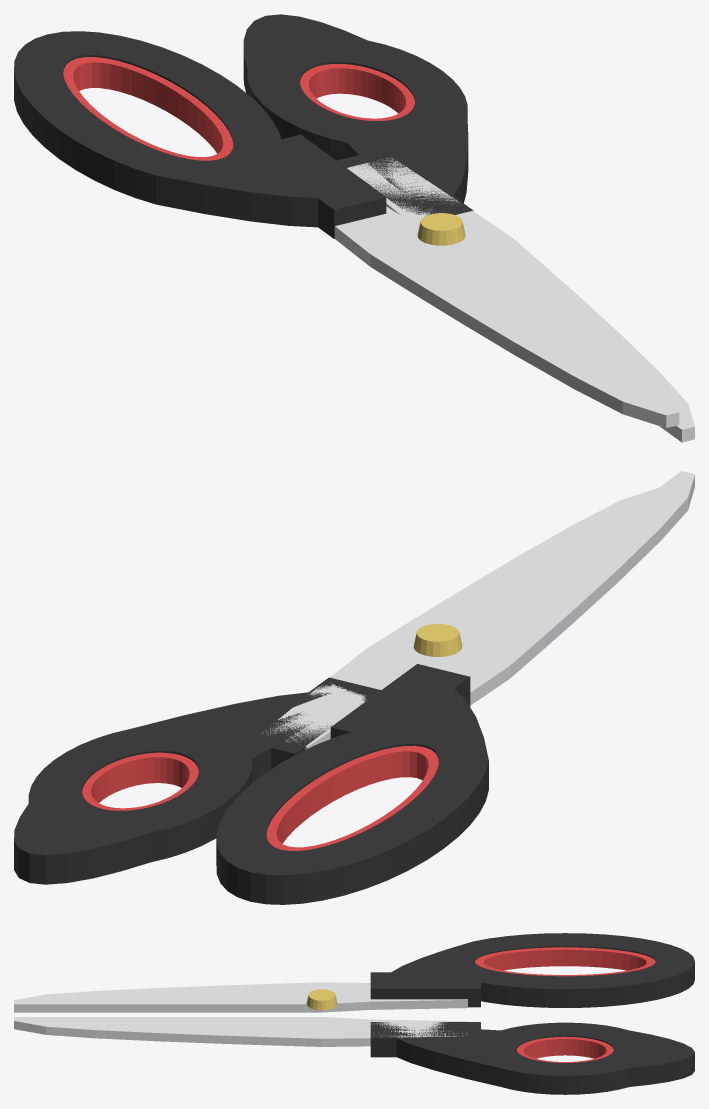
The picture shows the model from 3 angles, top to bottom: view 1: azimuth 30°, elevation 25°; view 2: azimuth 150°, elevation 25°; view 3: azimuth 270°, elevation 25°; orthographic projection. The views are drawn at different scales.
Parts seen in each view (by area): view 1: pivot_half, base_half; view 2: pivot_half, base_half; view 3: pivot_half, base_half.
Part boxes in pixels (x1=…): pivot_half: x1=14, y1=31, x2=679, y2=427; base_half: x1=243, y1=14, x2=694, y2=442; pivot_half: x1=216, y1=471, x2=694, y2=904; base_half: x1=14, y1=488, x2=657, y2=884; pivot_half: x1=14, y1=933, x2=694, y2=1012; base_half: x1=14, y1=1017, x2=694, y2=1094.
Size of the model in its own units: 0.088 by 0.014 by 0.21.
